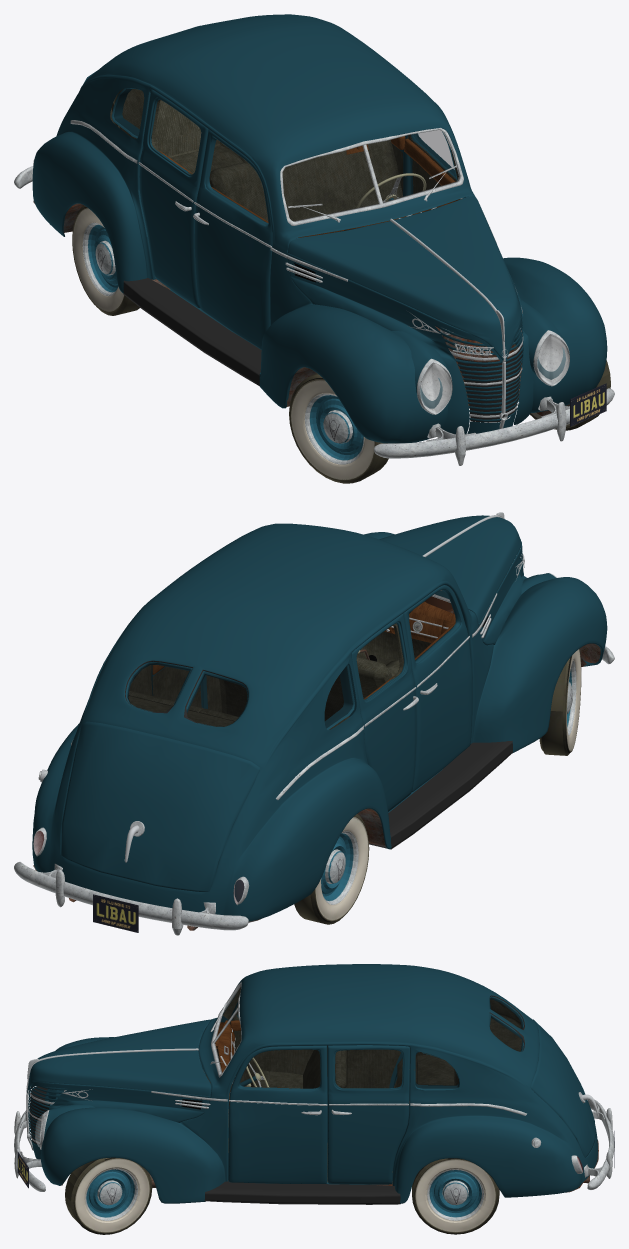
File: 1938_car.glb
The picture shows the model from 3 angles, top to bottom: view 1: azimuth 30°, elevation 25°; view 2: azimuth 150°, elevation 25°; view 3: azimuth 270°, elevation 25°; orthographic projection. The views are drawn at different scales.
Visible parts, largest first — view 1: Object_5, Object_8, Object_34, Object_4, Object_6, Object_32, Object_15, Object_16, Object_62, Object_14, Object_35, Object_92 (+1 smaller); view 2: Object_5, Object_34, Object_4, Object_8, Object_6, Object_32, Object_15, Object_16, Object_35, Object_92, Object_14; view 3: Object_5, Object_8, Object_34, Object_4, Object_15, Object_6, Object_32, Object_16, Object_35, Object_9.
Boxes of the visible parts, box(x1,y1,x2,y2) form: Object_5: box(32, 14, 607, 443); Object_8: box(288, 195, 521, 360); Object_34: box(114, 89, 459, 222); Object_4: box(110, 89, 458, 221); Object_6: box(14, 120, 614, 465); Object_32: box(123, 278, 522, 422); Object_15: box(72, 205, 610, 483); Object_16: box(82, 222, 363, 464); Object_62: box(420, 334, 568, 412); Object_14: box(33, 201, 569, 415); Object_35: box(159, 136, 460, 237); Object_92: box(570, 383, 606, 426); Object_5: box(32, 523, 607, 921); Object_34: box(127, 590, 454, 728); Object_4: box(128, 623, 453, 729); Object_8: box(379, 515, 521, 623); Object_6: box(14, 553, 614, 935); Object_32: box(125, 660, 512, 849); Object_15: box(294, 649, 581, 924); Object_16: box(321, 660, 576, 904); Object_35: box(152, 601, 455, 699); Object_92: box(93, 894, 138, 932); Object_14: box(33, 574, 600, 930); Object_5: box(28, 964, 597, 1203); Object_8: box(27, 1019, 211, 1096); Object_34: box(215, 987, 522, 1088); Object_4: box(206, 987, 521, 1184); Object_15: box(65, 1157, 499, 1234); Object_6: box(14, 982, 614, 1191); Object_32: box(30, 995, 524, 1204); Object_16: box(85, 1168, 484, 1220); Object_35: box(215, 1020, 301, 1105); Object_9: box(26, 1048, 198, 1150).
Size of the model in its own units: 2.16 by 2.05 by 5.42.
Materials: 17 (9 with a texture image).
